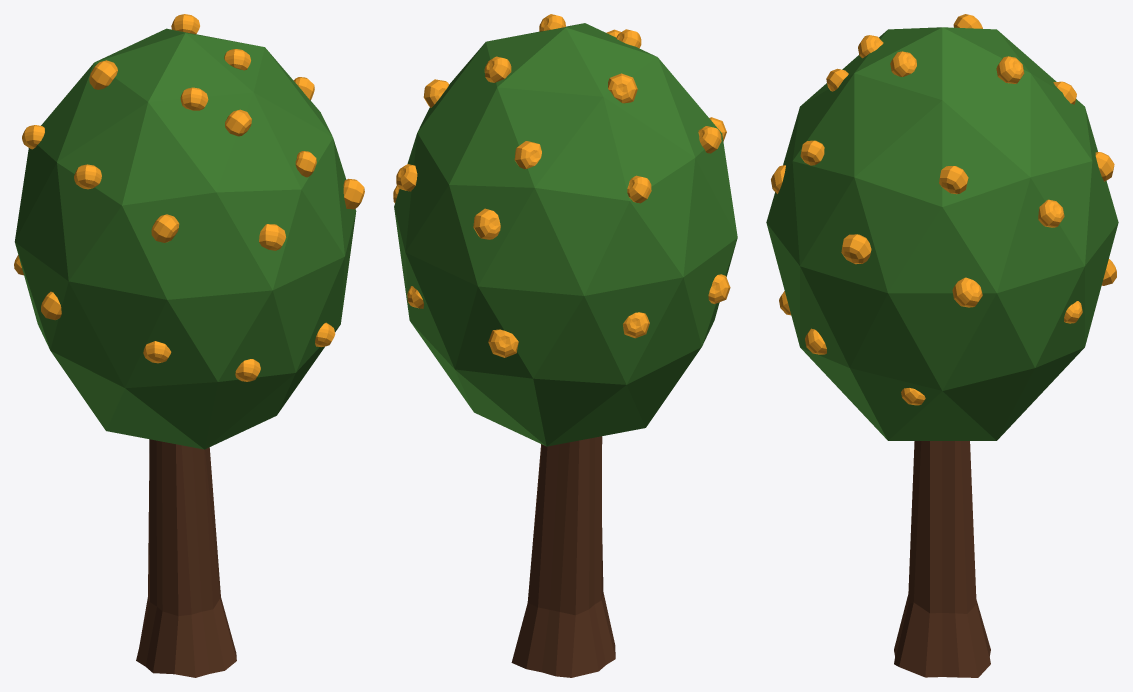
The model's file is TreeApple_2.fbx.
The picture shows the model from 3 angles, left to right: view 1: azimuth 30°, elevation 25°; view 2: azimuth 150°, elevation 25°; view 3: azimuth 270°, elevation 25°; orthographic projection.
Parts seen in each view (by area): view 1: TreeApple_2; view 2: TreeApple_2; view 3: TreeApple_2.
Part boxes in pixels (x1,y1,x2,y2): TreeApple_2: [14, 14, 364, 677]; TreeApple_2: [393, 14, 737, 677]; TreeApple_2: [766, 14, 1118, 677].
Size of the model in its own units: 133 by 258 by 130.
